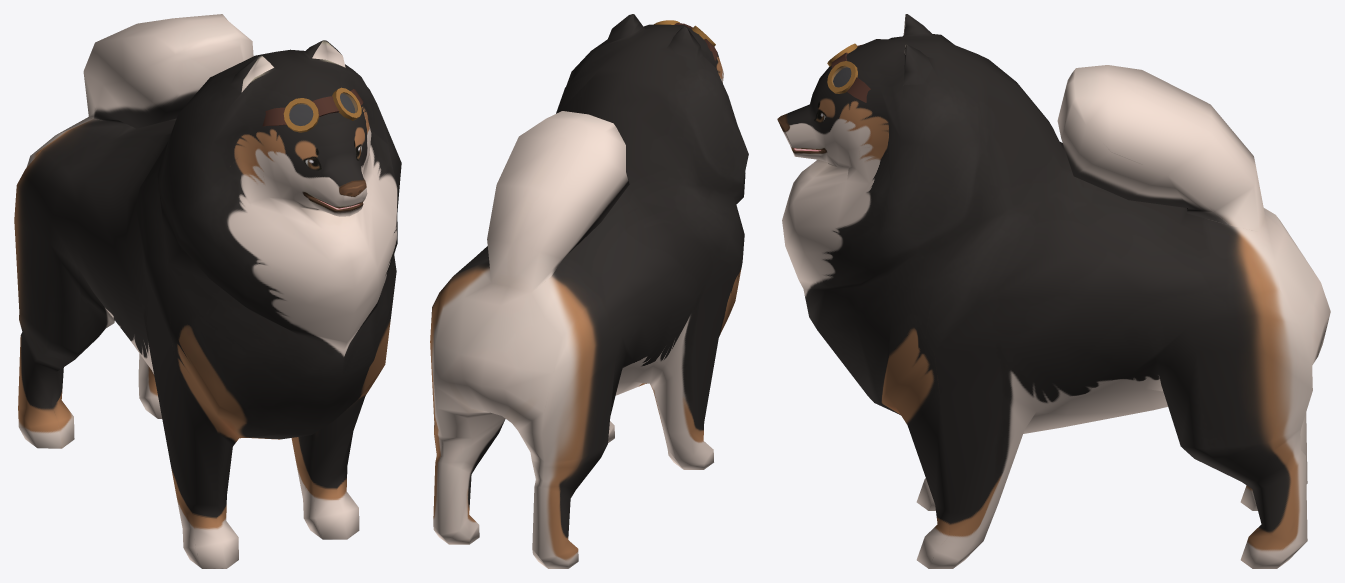
File: Blackie_Resized.fbx
The picture shows the model from 3 angles, left to right: view 1: azimuth 30°, elevation 25°; view 2: azimuth 150°, elevation 25°; view 3: azimuth 270°, elevation 25°; orthographic projection. The views are drawn at different scales.
Parts seen in each view (by area): view 1: pom_model, goggles; view 2: pom_model; view 3: pom_model, goggles.
Boxes of the visible parts, left/top/right/bottom form: pom_model: left=14, top=14, right=401, bottom=568; goggles: left=262, top=87, right=363, bottom=132; pom_model: left=430, top=14, right=748, bottom=568; pom_model: left=777, top=14, right=1330, bottom=568; goggles: left=827, top=43, right=870, bottom=102.
Bounding box in the file's own units: 79.8 × 170 × 170.
